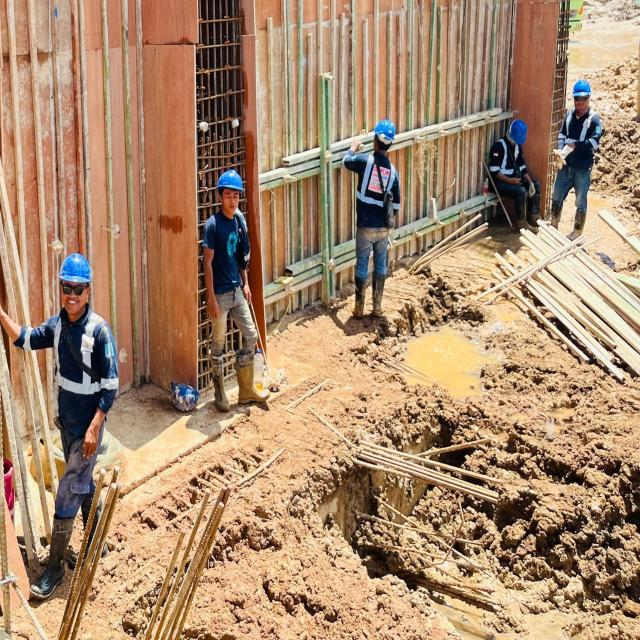safetyhelmet: (59, 253, 92, 283), (171, 382, 198, 411), (217, 170, 244, 191), (374, 119, 396, 144), (509, 120, 527, 145), (573, 79, 590, 97)
